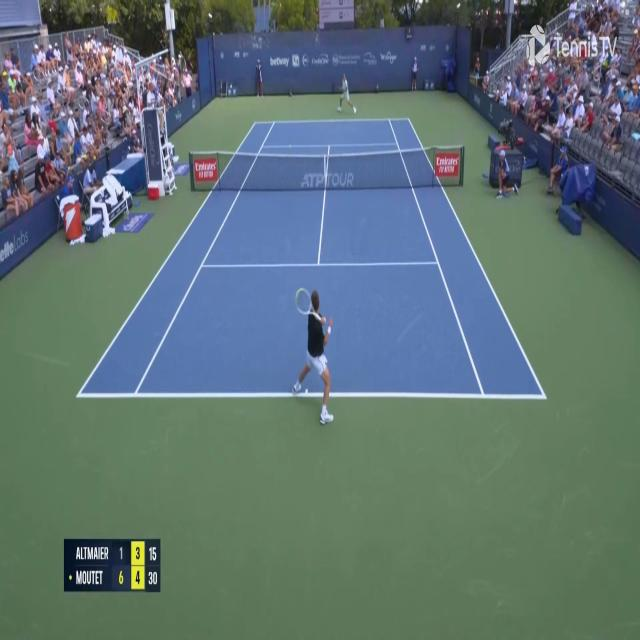tennis-player: (289, 283, 338, 429), (336, 72, 358, 116)
